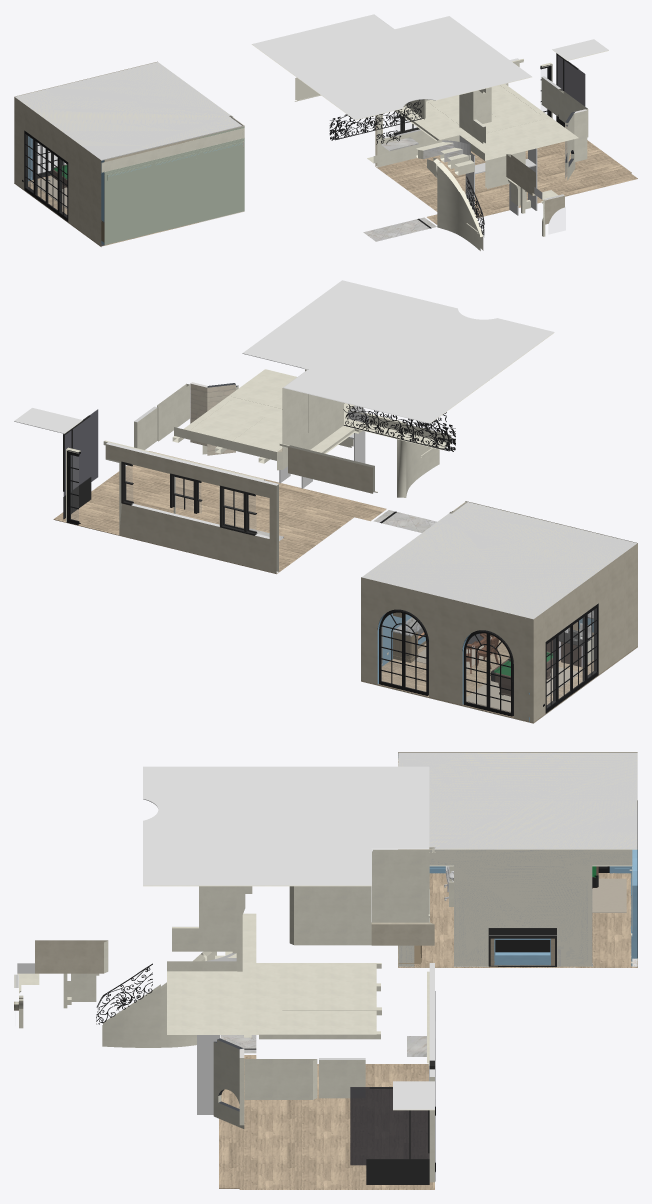
File: game-room-7076c3d3f2d5.glb
3 views of the same model, one above another, from view 1: azimuth 30°, elevation 25°; view 2: azimuth 150°, elevation 25°; view 3: azimuth 270°, elevation 25° (orthographic). The views are drawn at different scales.
Parts seen in each view (by area): view 1: game-room-look-9d91b47435c6fb33, game-room-4a969f5cc1ae3dfe, game-room-30c5953c9ad73e5d, game-room-look-3b0077416469e01b, game-room-look-2575515a05775d9e, game-room-039192b0560cfac3, game-room-50d54560d247b537, game-room-look-8c6a7019fd0063e7, game-room-2575515a05775d9e, game-room-f4800b31bfeb29e4, game-room-look-b25fb5f5b7a449e2, game-room-look-bfb9fa537cd11d1d (+20 smaller); view 2: game-room-look-9d91b47435c6fb33, game-room-4a969f5cc1ae3dfe, game-room-look-3b0077416469e01b, game-room-969b861f9850351e, game-room-look-bfb9fa537cd11d1d, game-room-039192b0560cfac3, game-room-look-2575515a05775d9e, game-room-50d54560d247b537, game-room-3b0077416469e01b, game-room-look-245f595ae2832e16, game-room-ebdc05650cf31826, game-room-ca241f91fd698c40 (+23 smaller); view 3: game-room-look-9d91b47435c6fb33, game-room-4a969f5cc1ae3dfe, game-room-look-3b0077416469e01b, game-room-3e6709f91b43c3bf, game-room-look-2575515a05775d9e, game-room-50d54560d247b537, game-room-55ff1dfd7b659ec1, game-room-3b0077416469e01b, game-room-look-69af8f587252f9fa, game-room-look-cbd4bf73d9724a66, game-room-look-32b959c9aa406288, game-room-look-8c6a7019fd0063e7 (+20 smaller).
Part boxes in pixels (<box>): game-room-look-9d91b47435c6fb33: <box>251,14,531,120</box>; game-room-4a969f5cc1ae3dfe: <box>14,62,242,160</box>; game-room-30c5953c9ad73e5d: <box>104,126,244,245</box>; game-room-look-3b0077416469e01b: <box>375,140,637,224</box>; game-room-look-2575515a05775d9e: <box>367,84,578,163</box>; game-room-039192b0560cfac3: <box>14,97,104,246</box>; game-room-50d54560d247b537: <box>14,61,243,160</box>; game-room-look-8c6a7019fd0063e7: <box>427,157,483,250</box>; game-room-2575515a05775d9e: <box>101,128,244,172</box>; game-room-f4800b31bfeb29e4: <box>24,130,68,221</box>; game-room-look-b25fb5f5b7a449e2: <box>329,99,423,140</box>; game-room-look-bfb9fa537cd11d1d: <box>375,58,519,167</box>; game-room-look-9d91b47435c6fb33: <box>242,280,554,423</box>; game-room-4a969f5cc1ae3dfe: <box>361,502,637,619</box>; game-room-look-3b0077416469e01b: <box>53,451,386,574</box>; game-room-969b861f9850351e: <box>361,578,529,721</box>; game-room-look-bfb9fa537cd11d1d: <box>105,442,278,573</box>; game-room-039192b0560cfac3: <box>529,544,637,722</box>; game-room-look-2575515a05775d9e: <box>174,369,451,460</box>; game-room-50d54560d247b537: <box>361,502,637,619</box>; game-room-3b0077416469e01b: <box>361,636,637,722</box>; game-room-look-245f595ae2832e16: <box>288,445,374,493</box>; game-room-ebdc05650cf31826: <box>487,632,512,716</box>; game-room-ca241f91fd698c40: <box>403,612,427,695</box>; game-room-look-9d91b47435c6fb33: <box>143,766,429,886</box>; game-room-4a969f5cc1ae3dfe: <box>398,752,637,849</box>; game-room-look-3b0077416469e01b: <box>219,1055,434,1189</box>; game-room-3e6709f91b43c3bf: <box>398,849,632,966</box>; game-room-look-2575515a05775d9e: <box>167,913,376,1034</box>; game-room-50d54560d247b537: <box>398,752,637,849</box>; game-room-55ff1dfd7b659ec1: <box>398,849,631,967</box>; game-room-3b0077416469e01b: <box>398,873,637,967</box>; game-room-look-69af8f587252f9fa: <box>289,886,371,945</box>; game-room-look-cbd4bf73d9724a66: <box>350,1087,429,1165</box>; game-room-look-32b959c9aa406288: <box>372,849,429,922</box>; game-room-look-8c6a7019fd0063e7: <box>102,951,216,1047</box>.
Bounding box in the file's own units: 21.68 × 6.36 × 16.78.
66 materials, 17 textured.
